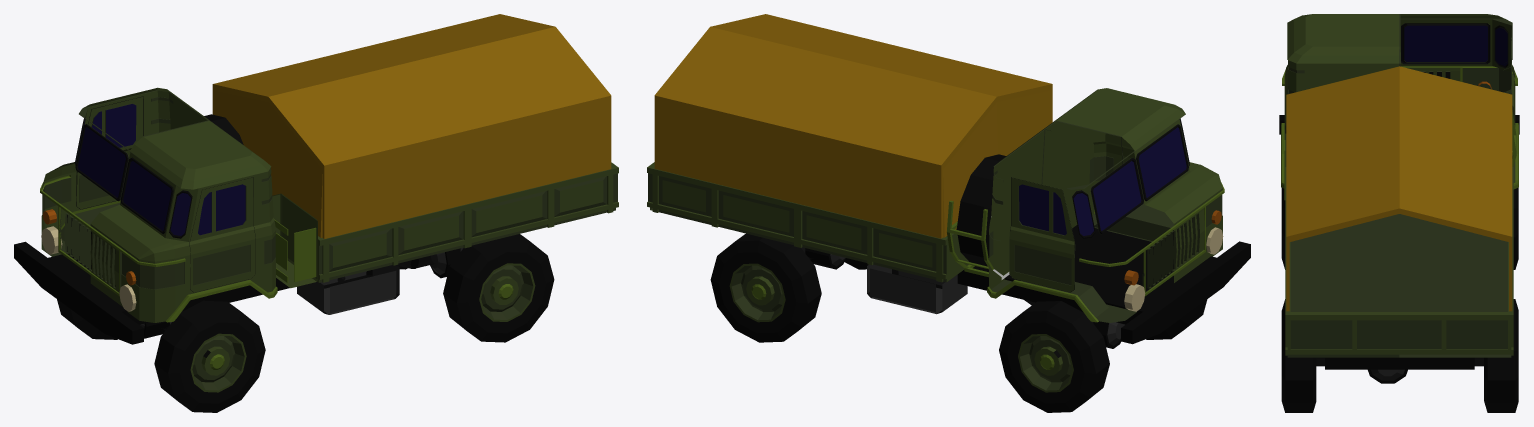
File: gaz66.fbx
The picture shows the model from 3 angles, left to right: view 1: azimuth 30°, elevation 25°; view 2: azimuth 150°, elevation 25°; view 3: azimuth 270°, elevation 25°; orthographic projection.
Parts seen in each view (by area): view 1: Куб.002; view 2: Куб.002; view 3: Куб.002.
Part boxes in pixels (box(x1,y1,x2,y2)): Куб.002: box(14, 14, 618, 412); Куб.002: box(647, 14, 1250, 412); Куб.002: box(1279, 14, 1519, 412).
Size of the model in its own units: 526 by 255 by 220.
